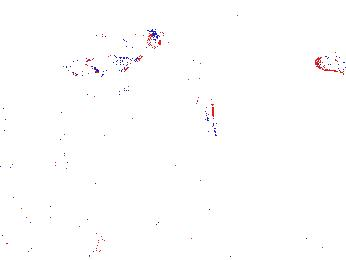glassfish: (186, 69, 218, 141)
redtail glassfish: (105, 31, 165, 73), (49, 47, 98, 74), (314, 48, 346, 72)
